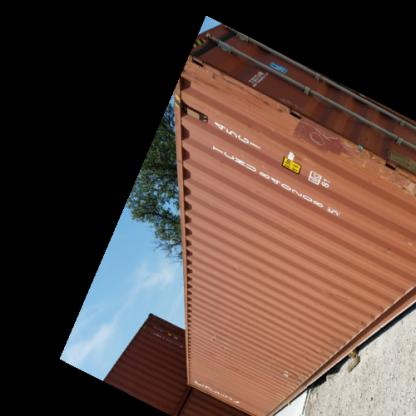Damage: (286, 110, 382, 166), (268, 359, 300, 386), (202, 326, 222, 346)
